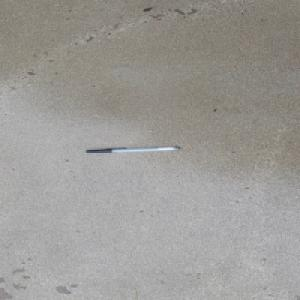Pen: (85, 146, 181, 153)
